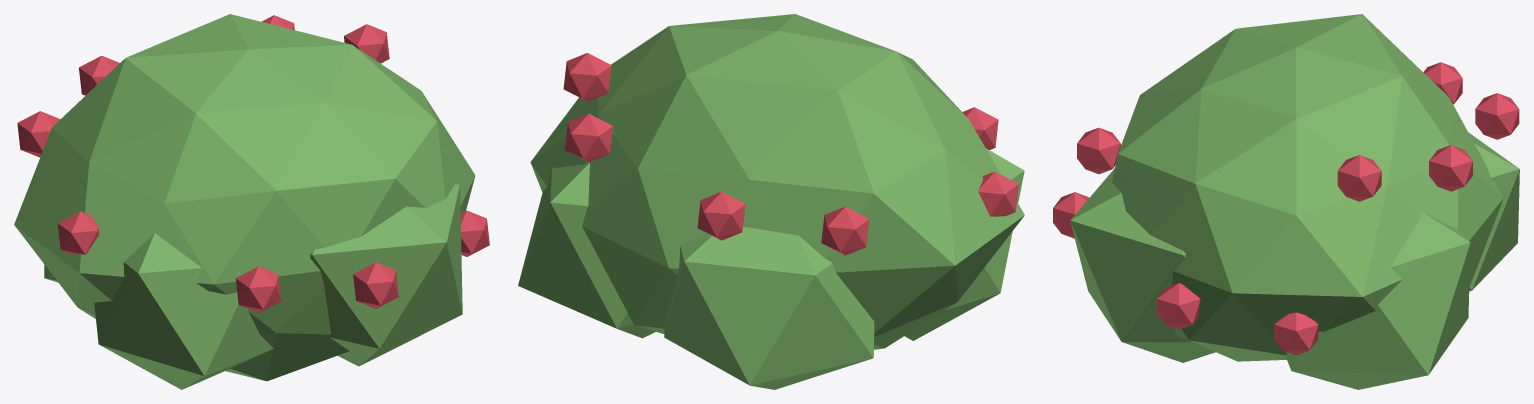
Rendered from berry_bush.glb.
The picture shows the model from 3 angles, left to right: view 1: azimuth 30°, elevation 25°; view 2: azimuth 150°, elevation 25°; view 3: azimuth 270°, elevation 25°; orthographic projection. The views are drawn at different scales.
Visible parts, largest first — view 1: berry_bush; view 2: berry_bush; view 3: berry_bush.
Part boxes in pixels (x1,y1,x2,y2): berry_bush: (14, 14, 489, 389); berry_bush: (518, 14, 1024, 389); berry_bush: (1053, 14, 1519, 389).
Size of the model in its own units: 1.2 by 0.818 by 1.17.
